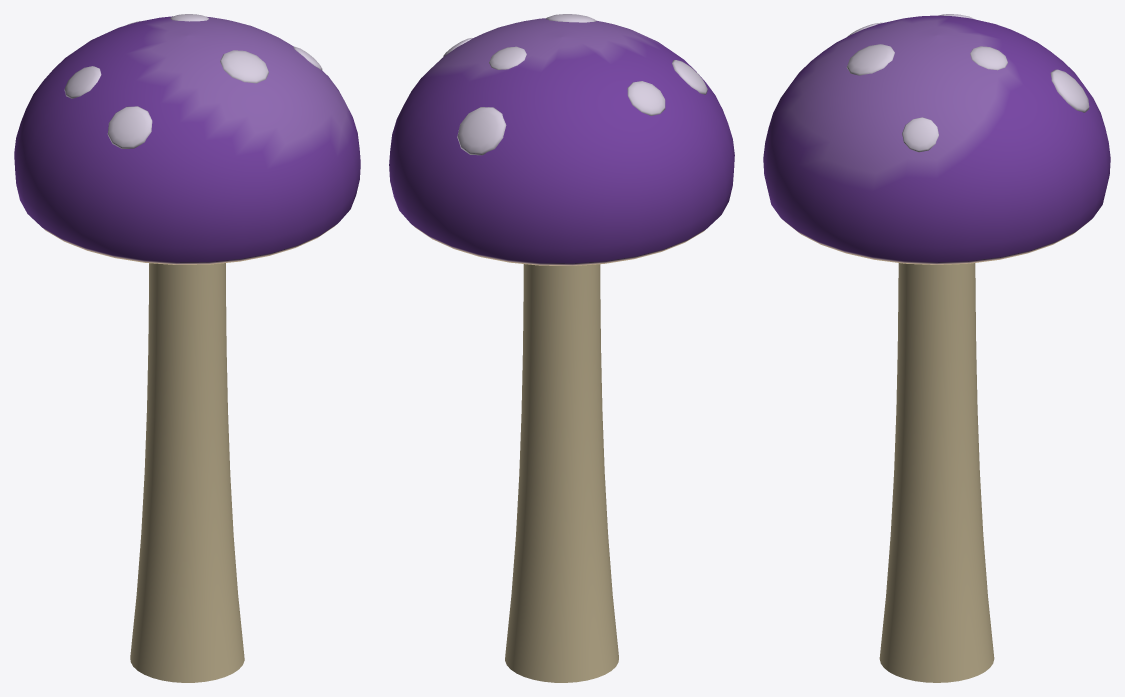
File: mushroom-single-violet.obj
3 renders of one model, left to right at view 1: azimuth 30°, elevation 25°; view 2: azimuth 150°, elevation 25°; view 3: azimuth 270°, elevation 25°, orthographic.
Visible parts, largest first — view 1: mushroom; view 2: mushroom; view 3: mushroom.
Boxes of the visible parts, x1,y1,x2,y2 form: mushroom: (14,14,360,682); mushroom: (389,14,734,682); mushroom: (763,14,1110,682).
Bounding box in the file's own units: 380 × 752 × 380.
